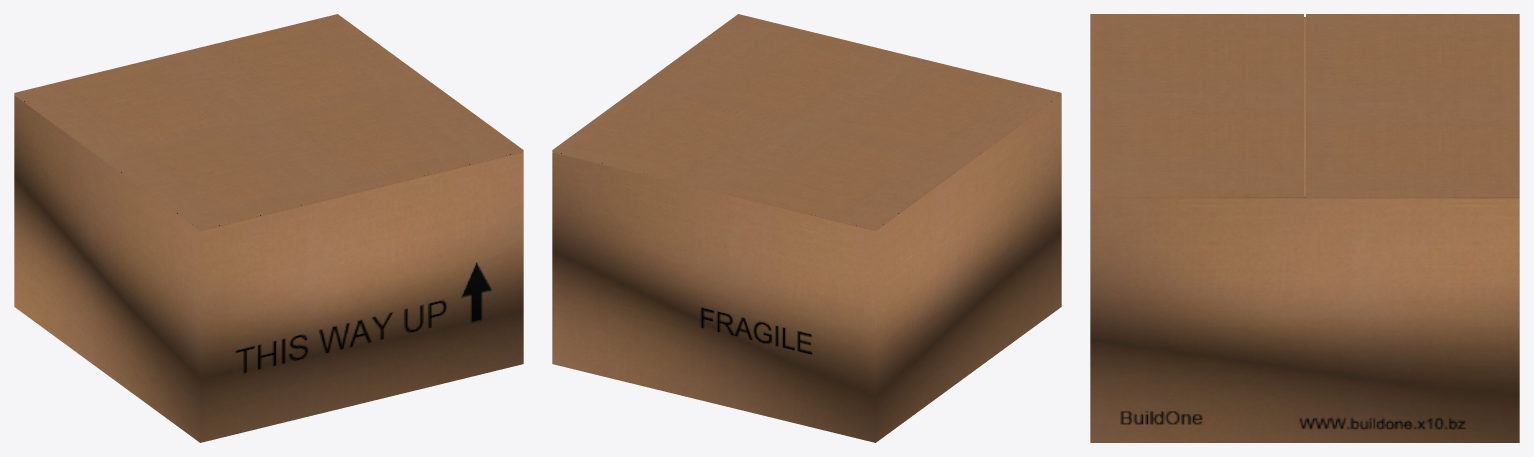
File: Cardboard_Box-2.fbx
The picture shows the model from 3 angles, left to right: view 1: azimuth 30°, elevation 25°; view 2: azimuth 150°, elevation 25°; view 3: azimuth 270°, elevation 25°; orthographic projection. The views are drawn at different scales.
Parts seen in each view (by area): view 1: Box_2, Box2_top_2, Box2_top_1; view 2: Box_2, Box2_top_1, Box2_top_2; view 3: Box_2, Box2_top_2, Box2_top_1.
Boxes of the visible parts, x1,y1,x2,y2 form: Box_2: [14, 95, 523, 442]; Box2_top_2: [107, 82, 523, 231]; Box2_top_1: [14, 14, 430, 162]; Box_2: [552, 95, 1061, 442]; Box2_top_1: [552, 82, 968, 231]; Box2_top_2: [645, 14, 1061, 162]; Box_2: [1090, 17, 1519, 442]; Box2_top_2: [1090, 14, 1303, 198]; Box2_top_1: [1306, 14, 1519, 198].
Bounding box in the file's own units: 49.77 × 31.48 × 49.58.
Materials: 1 (1 with a texture image).
